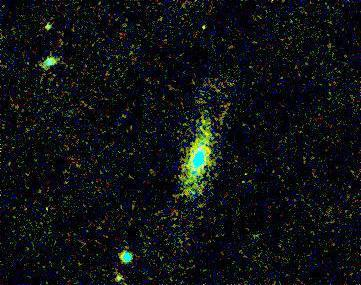star: (33, 13, 63, 43)
